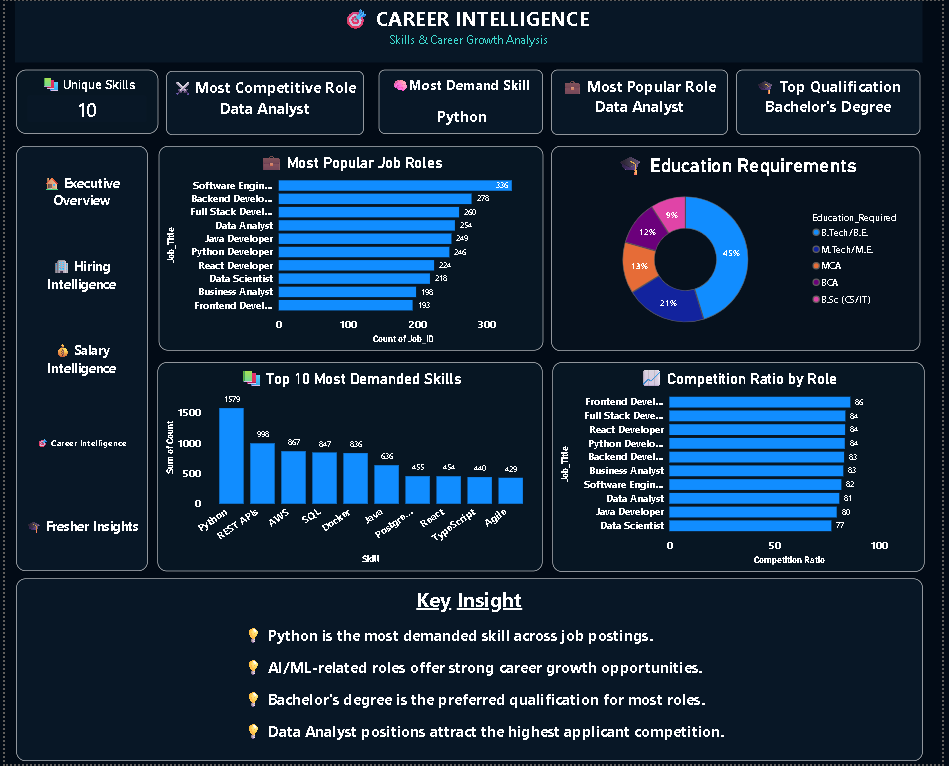

Layout of this report page (visuals, bound fields, positions):
{"tool":"powerbi","page":{"name":"🎯 Career Intelligence","canvas":[1500,1220],"ordinal":3},"visuals":[{"type":"textbox","box":[1170,110,294,104],"z":0},{"type":"textbox","box":[598,110,262,102],"z":1000},{"type":"textbox","box":[874,110,282,104],"z":2000},{"type":"textbox","box":[258,112,316,102],"z":3000},{"type":"donutChart","title":"🎓 Education Requirements","fields":{"Y":["CountNonNull(india_job_market_2024_2026.Job_ID)"],"Category":["india_job_market_2024_2026.Education_Required"]},"box":[874,232,590,328],"z":5000},{"type":"barChart","title":"💼 Most Popular Job Roles","fields":{"Category":["india_job_market_2024_2026.Job_Title"],"Y":["CountNonNull(india_job_market_2024_2026.Job_ID)"]},"box":[245,232.5,615,327.5],"z":6000},{"type":"barChart","title":"📈 Competition Ratio by Role","fields":{"Category":["india_job_market_2024_2026.Job_Title"],"Y":["india_job_market_2024_2026.Competition Ratio"]},"box":[875,577.5,595,335],"z":6001},{"type":"pageNavigator","box":[17.5,232.5,210,680],"z":6002},{"type":"columnChart","title":"📚 Top 10 Most Demanded Skills","fields":{"Y":["Sum(archive (3)top_10_skills.Count)"],"Category":["archive (3)top_10_skills.Skill"]},"box":[244,578,616,334],"z":6003},{"type":"textbox","box":[16.7,0,1451.7,98.3],"z":6004},{"type":"textbox","box":[18,924,1450,292],"z":6005},{"type":"cardVisual","title":"📚 Unique Skills","fields":{"Data":["Count(archive (3)top_10_skills.Skill)"]},"box":[17.5,110,227.5,102.5],"z":6006}]}

Visuals, with their boxes in screenshot pixels (x1, y1, x2, y2), scaled from the page's 1500x1220 canvas onto the 949x766 screenshot:
textbox: <region>740, 69, 926, 134</region>
textbox: <region>378, 69, 544, 133</region>
textbox: <region>553, 69, 731, 134</region>
textbox: <region>163, 70, 363, 134</region>
"🎓 Education Requirements" donutChart: <region>553, 146, 926, 352</region>
"💼 Most Popular Job Roles" barChart: <region>155, 146, 544, 352</region>
"📈 Competition Ratio by Role" barChart: <region>554, 363, 930, 573</region>
pageNavigator: <region>11, 146, 144, 573</region>
"📚 Top 10 Most Demanded Skills" columnChart: <region>154, 363, 544, 573</region>
textbox: <region>11, 0, 929, 62</region>
textbox: <region>11, 580, 929, 763</region>
"📚 Unique Skills" cardVisual: <region>11, 69, 155, 133</region>
